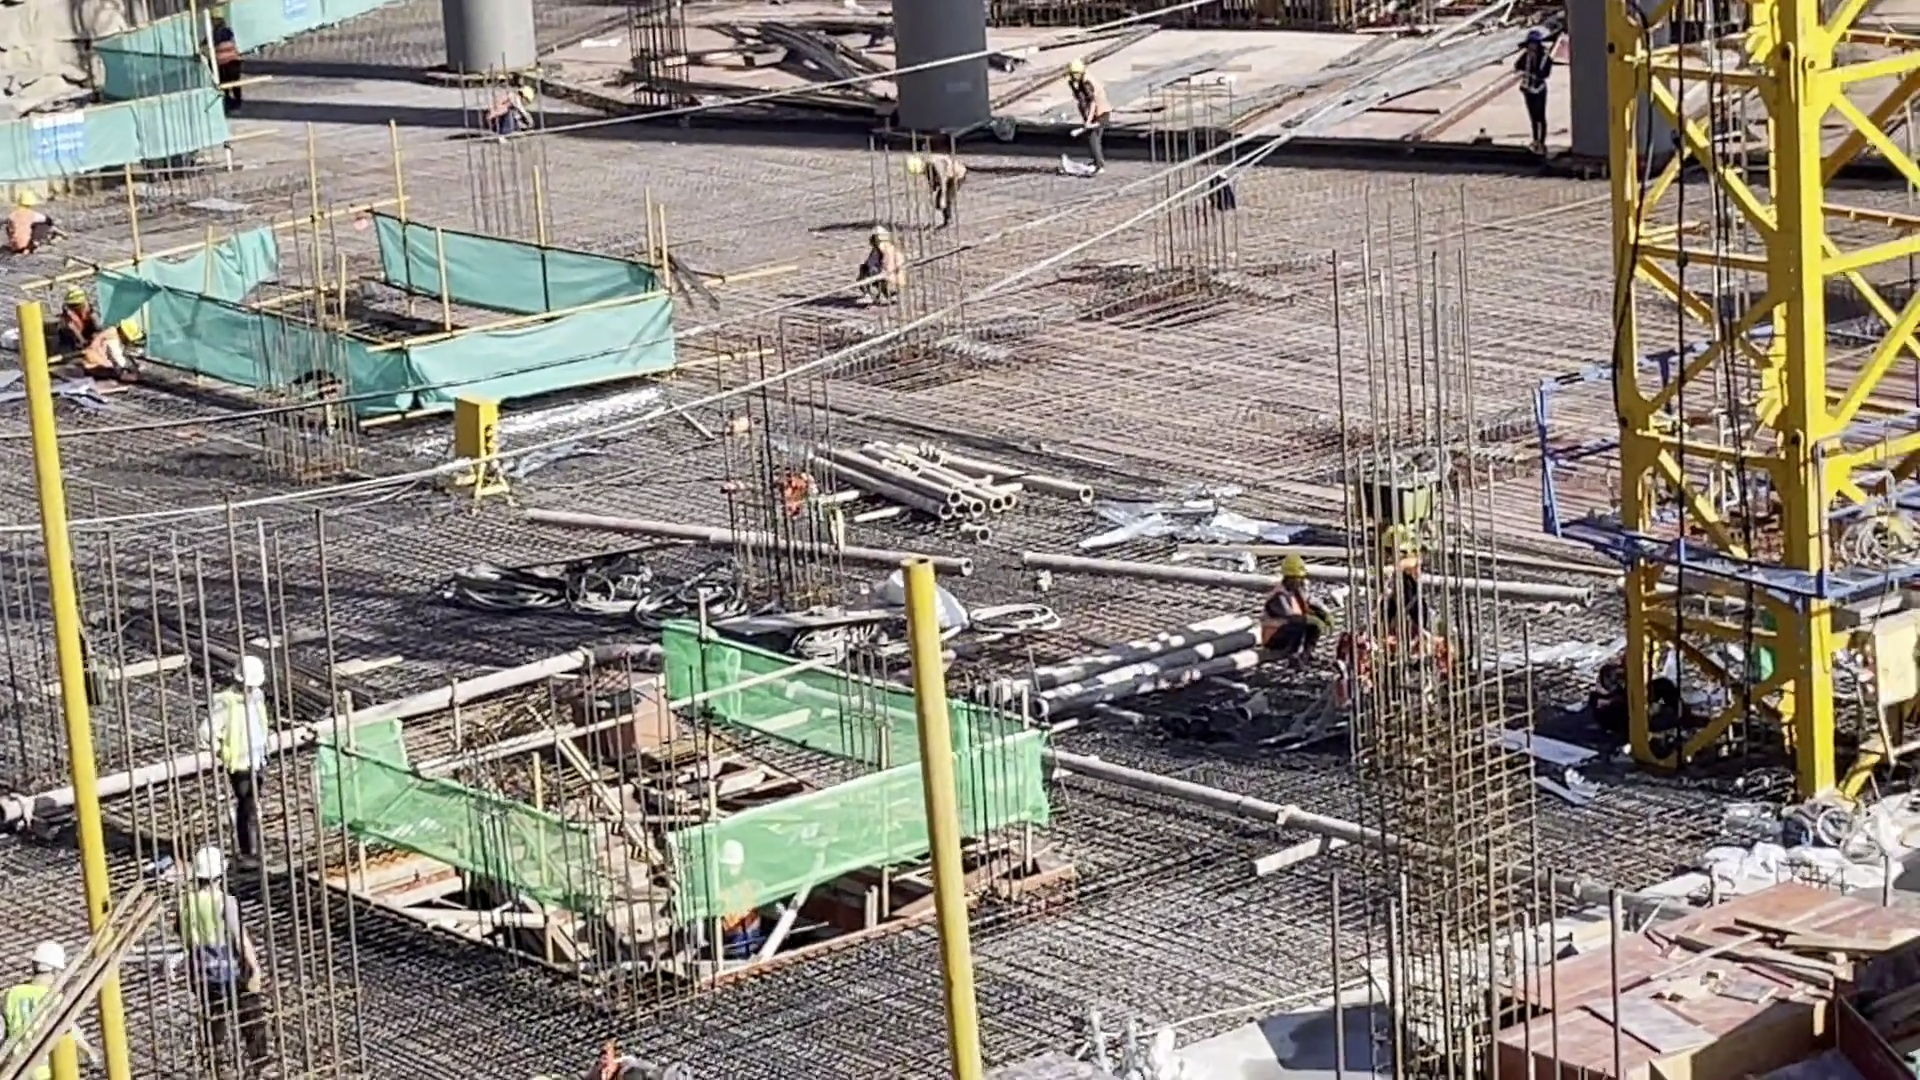helmet: (229, 654, 268, 691), (186, 849, 226, 885), (27, 941, 65, 973), (1277, 553, 1312, 580), (116, 322, 141, 343), (906, 152, 922, 181), (15, 187, 38, 205), (1067, 57, 1084, 76), (869, 227, 891, 238)
person: (180, 841, 268, 1061), (1, 938, 89, 1078), (212, 658, 270, 859), (1251, 544, 1337, 671), (1054, 56, 1113, 176), (702, 828, 756, 959), (901, 150, 973, 233), (1511, 28, 1555, 157), (856, 227, 919, 300), (92, 312, 158, 376), (1, 190, 54, 259), (482, 87, 540, 147), (49, 282, 88, 364)
vest: (182, 892, 246, 992), (1, 982, 68, 1069), (218, 689, 265, 781), (1263, 590, 1309, 654), (926, 154, 971, 197), (1076, 77, 1108, 125), (873, 245, 905, 293), (6, 207, 33, 250)
